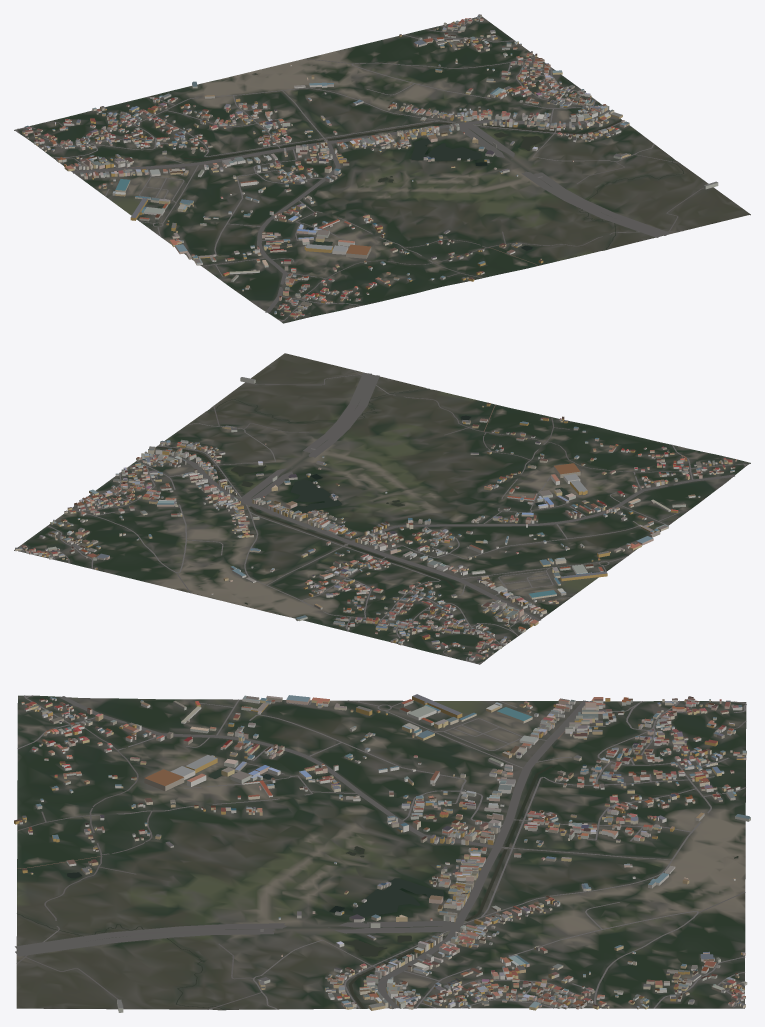
3 views of the same model, one above another, from view 1: azimuth 30°, elevation 25°; view 2: azimuth 150°, elevation 25°; view 3: azimuth 270°, elevation 25° (orthographic). The views are drawn at different scales.
Visible parts, largest first — view 1: ground, buildings, roads, water; view 2: ground, buildings, roads, water; view 3: ground, buildings, roads, water.
Part boxes in pixels (x1,y1,x2,y2): ground: [14, 16, 750, 323]; buildings: [22, 14, 718, 319]; roads: [16, 17, 703, 321]; water: [184, 73, 683, 250]; ground: [14, 353, 750, 664]; buildings: [15, 377, 736, 660]; roads: [18, 369, 748, 664]; water: [155, 388, 568, 604]; ground: [16, 695, 746, 1010]; buildings: [14, 694, 750, 1012]; roads: [15, 695, 746, 1009]; water: [17, 765, 738, 1009].
Size of the model in its own units: 1428 by 28.94 by 1418.
